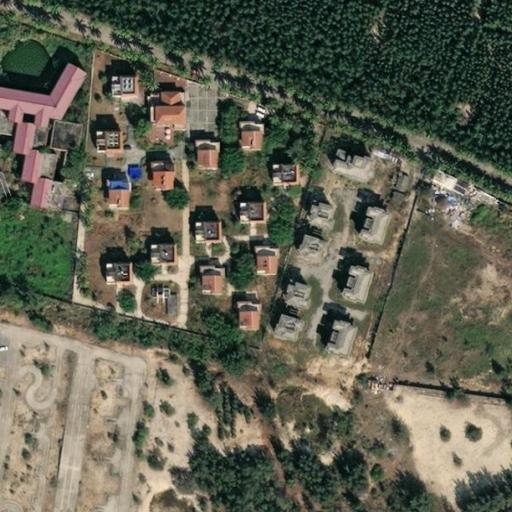building: (0, 54, 75, 121), (333, 256, 372, 300), (351, 198, 388, 241), (320, 148, 365, 183), (138, 88, 174, 122), (461, 211, 499, 242), (291, 227, 325, 261), (269, 306, 302, 339), (277, 274, 310, 307), (469, 199, 506, 227), (302, 195, 333, 227), (355, 140, 392, 165), (227, 115, 249, 152), (9, 144, 33, 177), (37, 117, 60, 150), (227, 295, 249, 328), (259, 157, 289, 181), (97, 75, 127, 98), (187, 261, 213, 287), (225, 195, 253, 219), (94, 179, 119, 205), (137, 234, 163, 259), (243, 242, 266, 270), (21, 172, 41, 204), (184, 136, 206, 165), (138, 158, 162, 184), (84, 131, 112, 153), (184, 215, 209, 239), (418, 164, 444, 187), (93, 255, 120, 276), (437, 173, 460, 194), (95, 210, 129, 224), (495, 230, 512, 253), (304, 328, 323, 348), (126, 133, 149, 148), (95, 203, 129, 212), (138, 284, 156, 297), (156, 293, 165, 316), (503, 219, 512, 235), (99, 173, 117, 180), (160, 121, 173, 130), (117, 167, 130, 176)
